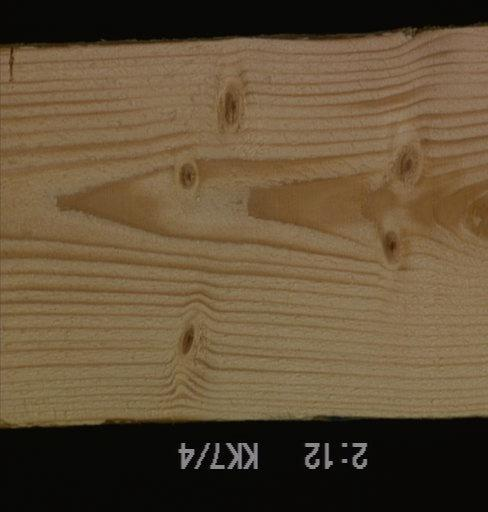sound_knot: (394, 142, 424, 186), (219, 87, 244, 136), (179, 320, 199, 360), (381, 233, 403, 269), (177, 158, 201, 191)
